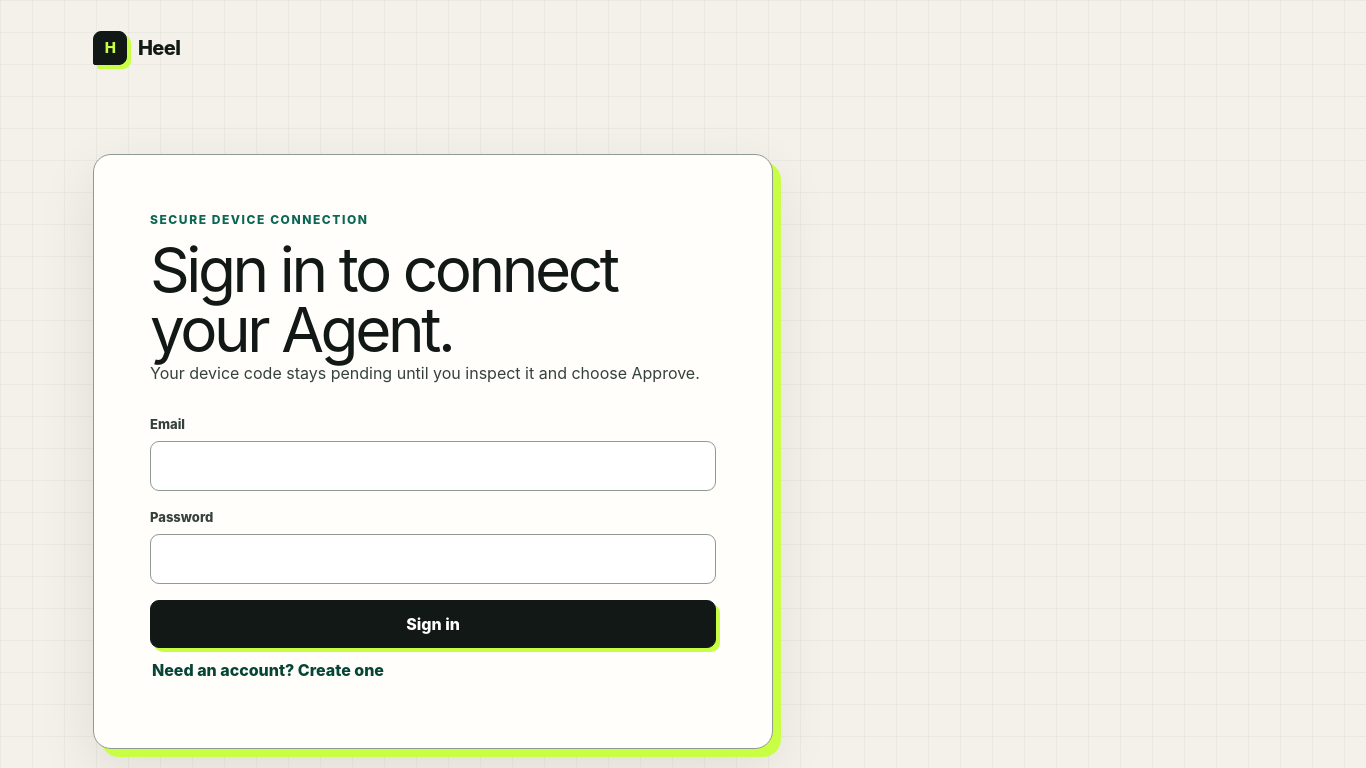
it: DeviceConfirmation › offers login inline and returns directly to code entry
Check: the heading "Sign in to connect your Agent." is shown, box left=150, top=232, right=617, bottom=367
Type "a@example.test" into the field labelled "Email". click: [433, 466]
box: left=150, top=441, right=716, bottom=491
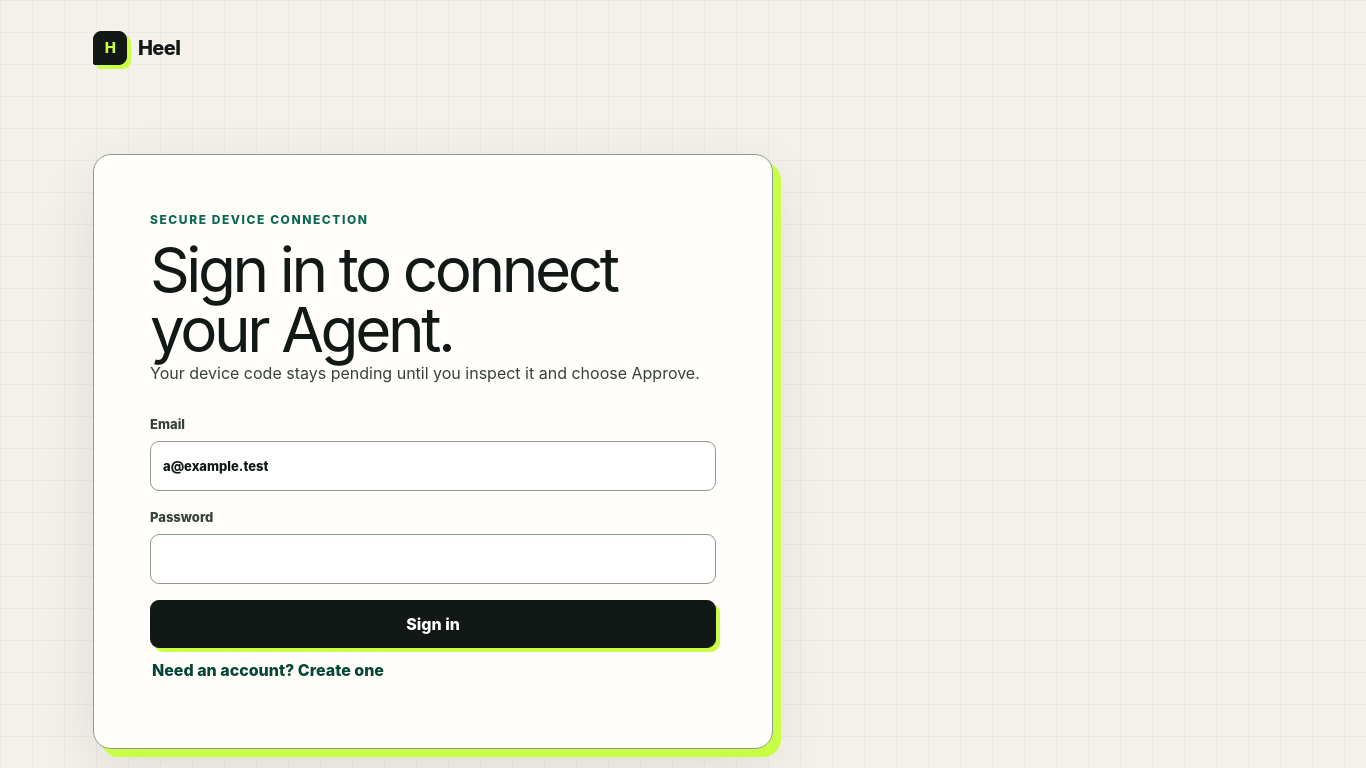
Type "correct-horse-staple" into the password field labelled "Password". click: [433, 559]
box: left=150, top=534, right=716, bottom=584
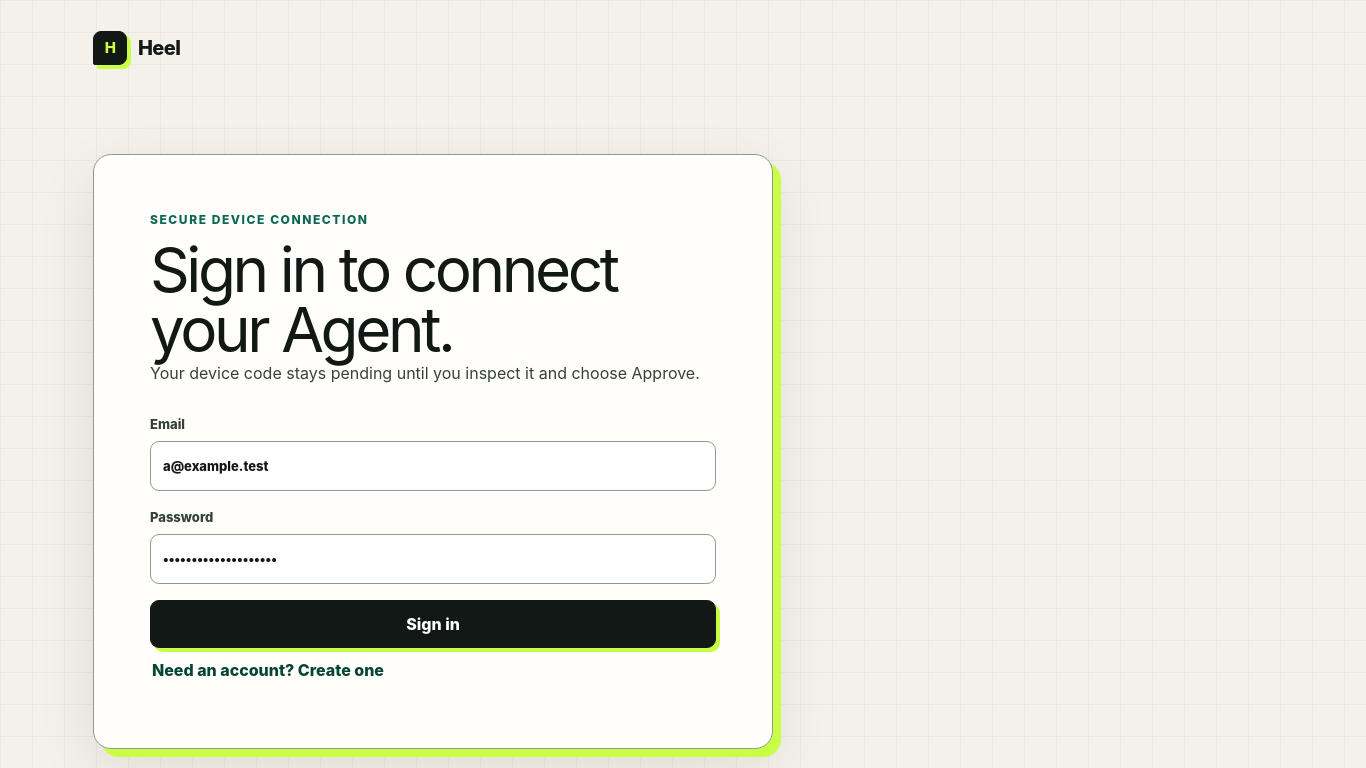
Click the button "Sign in". click: [433, 624]
box: left=150, top=600, right=716, bottom=648
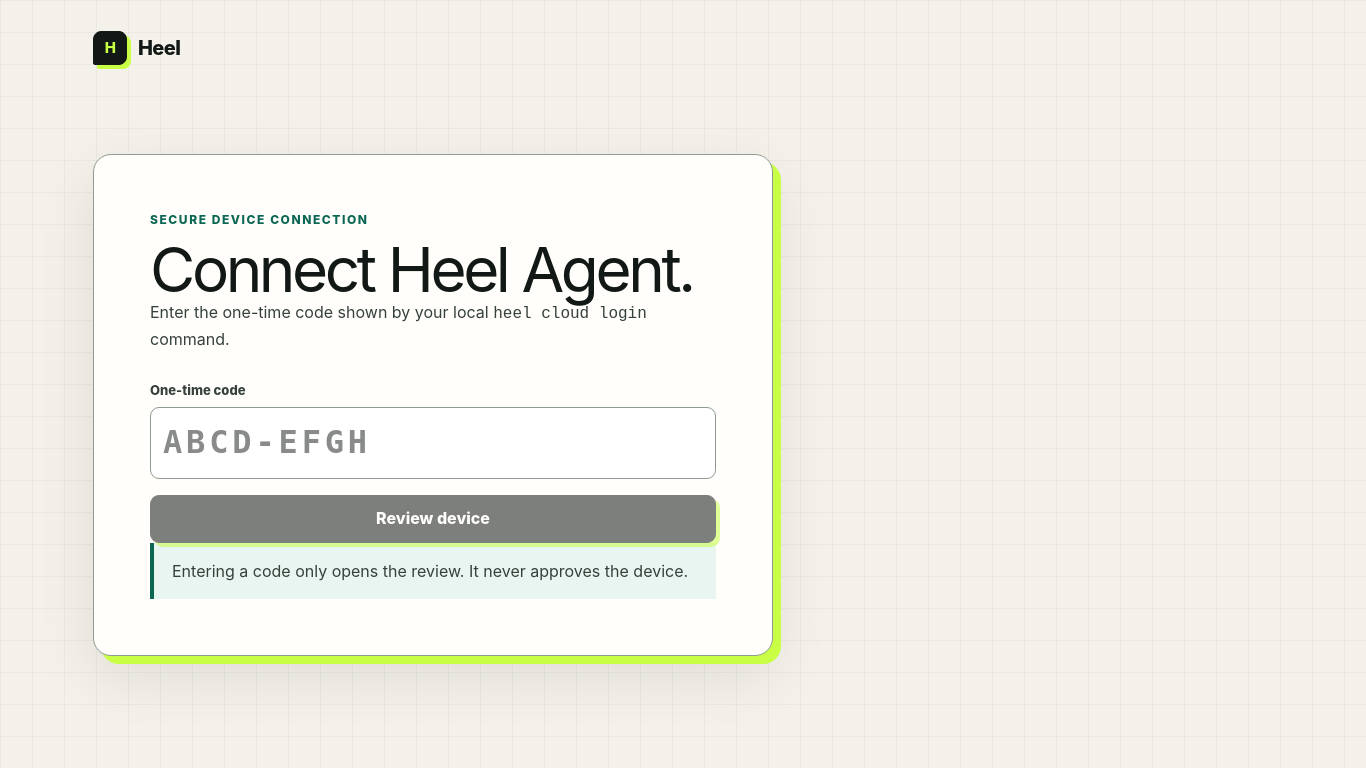
Check: the field labelled "One-time code" is shown, box left=150, top=407, right=716, bottom=479
